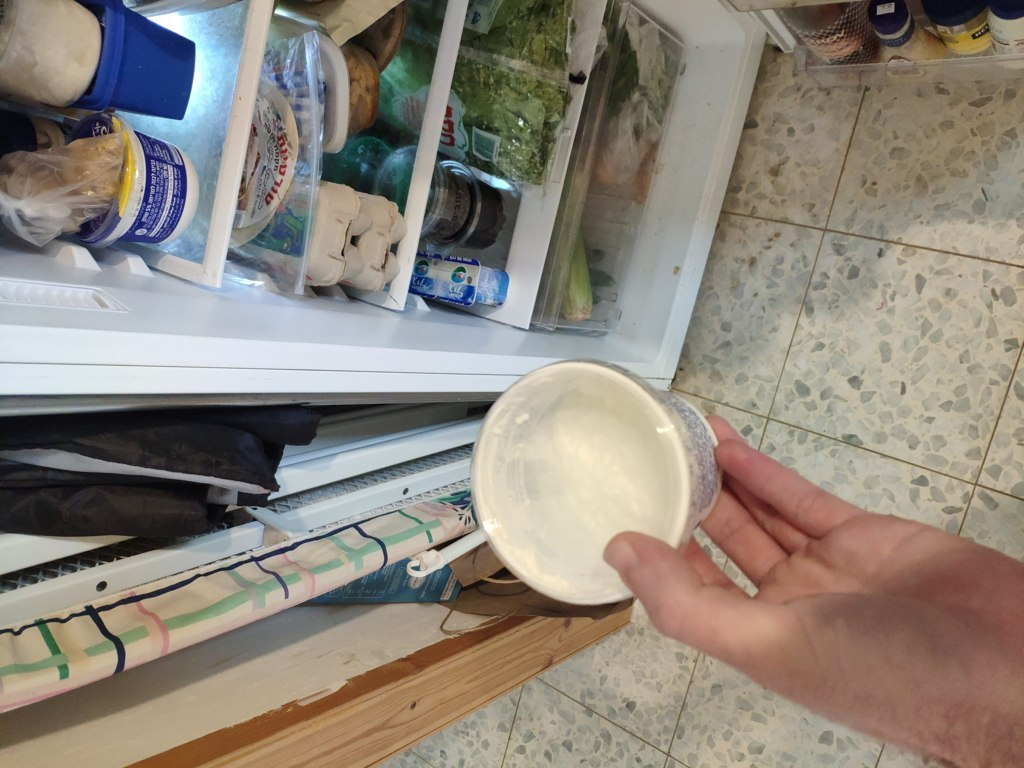Cotage: (463, 366, 726, 574)
